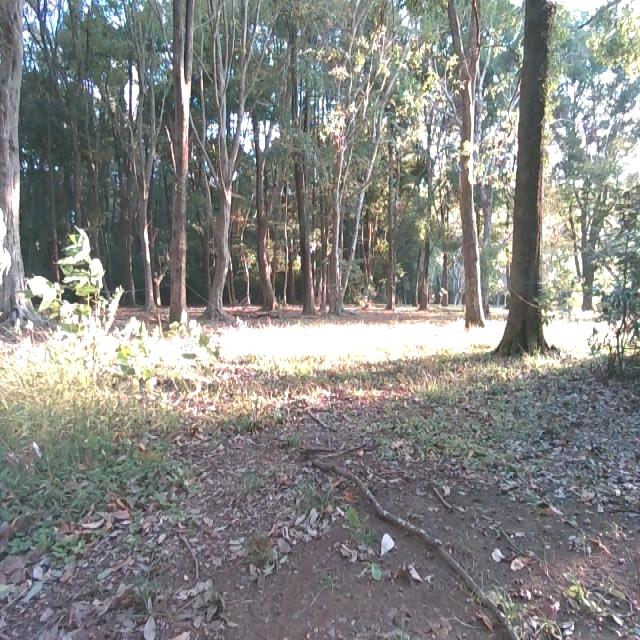bush: (0, 221, 172, 482), (589, 169, 640, 391)
tree: (501, 0, 563, 356), (202, 0, 241, 328), (285, 0, 317, 315), (169, 0, 197, 324), (2, 0, 29, 331), (461, 0, 481, 319), (326, 110, 354, 318), (249, 131, 277, 313)
